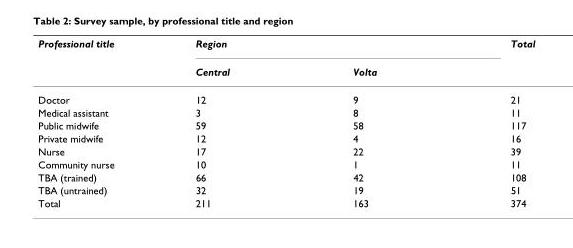table: (37, 37, 534, 208)
table column: (290, 37, 442, 208), (154, 37, 290, 208), (37, 37, 154, 208), (442, 37, 534, 208)
table column header: (37, 37, 534, 85)
table row: (37, 57, 534, 85), (37, 37, 534, 57), (37, 85, 534, 105), (37, 105, 534, 118), (37, 118, 534, 131), (37, 131, 534, 144), (37, 144, 534, 157), (37, 157, 534, 170), (37, 170, 534, 183), (37, 183, 534, 196), (37, 196, 534, 208)
table spanning cell: (154, 37, 442, 57), (37, 37, 154, 85), (442, 37, 534, 85)
